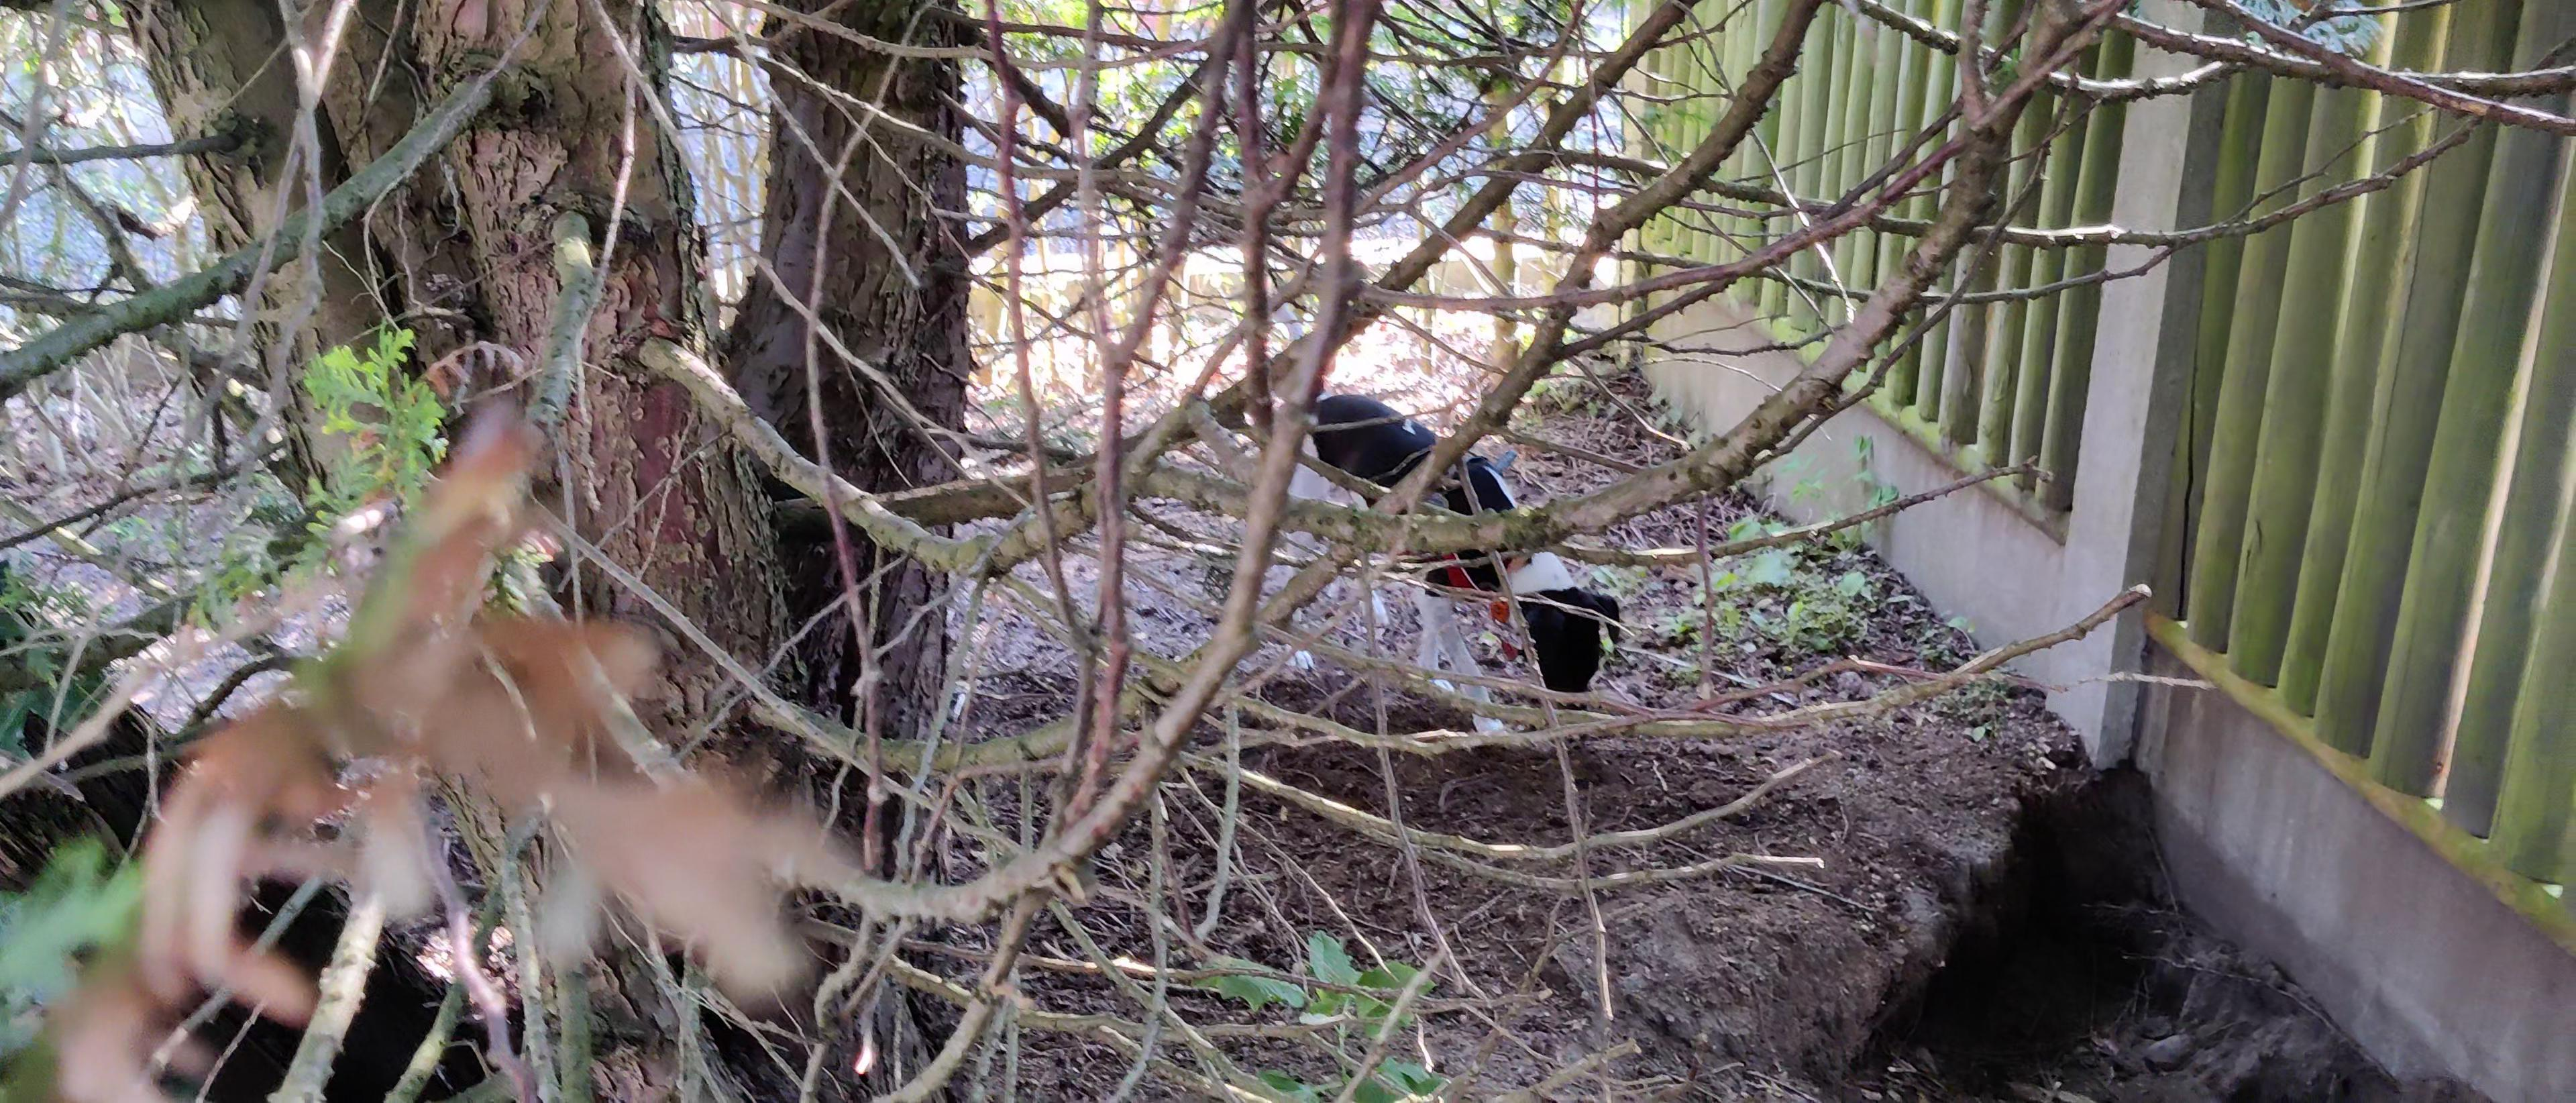Dog: (1194, 293, 1640, 759)
